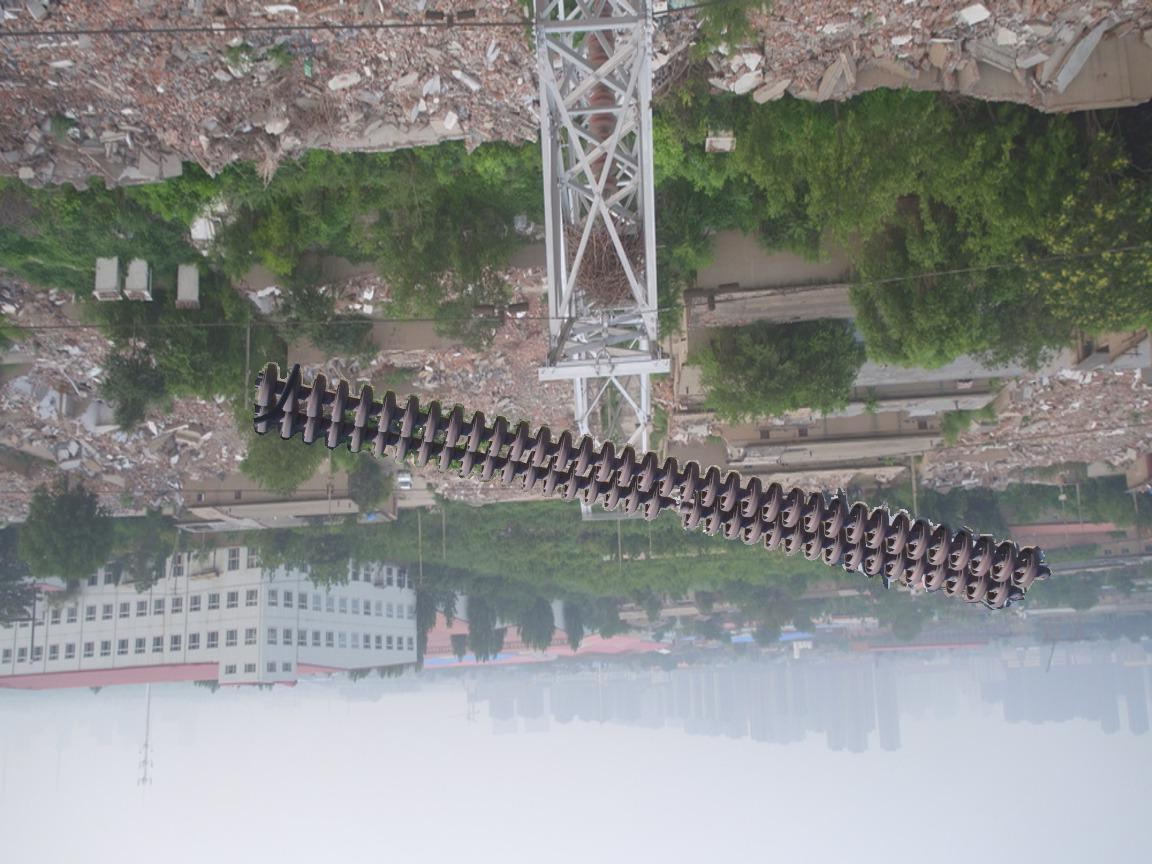insulator: (245, 359, 1053, 614), (580, 1, 621, 195)
insulator_stringdrop: (640, 492, 704, 534)
